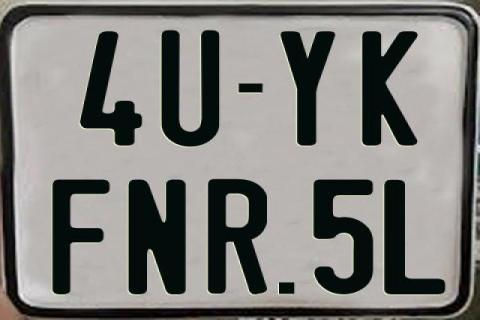0: (311, 178, 375, 296), (80, 30, 142, 144)
F: (51, 180, 112, 296)
K: (362, 32, 424, 146)
L: (384, 178, 450, 296)
N: (127, 177, 186, 295)
R: (205, 177, 266, 293)
U: (160, 29, 220, 147)
Y: (279, 29, 339, 148)
